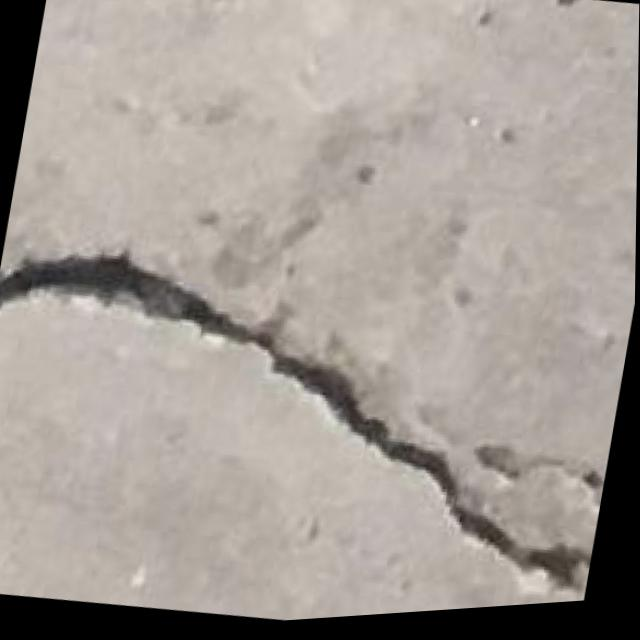Crack: (0, 206, 635, 640)
